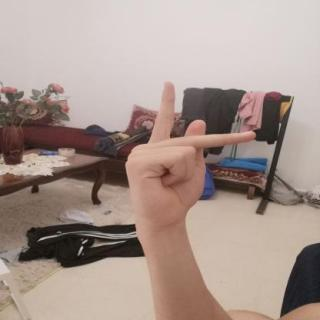DHAA: (112, 74, 266, 234)
